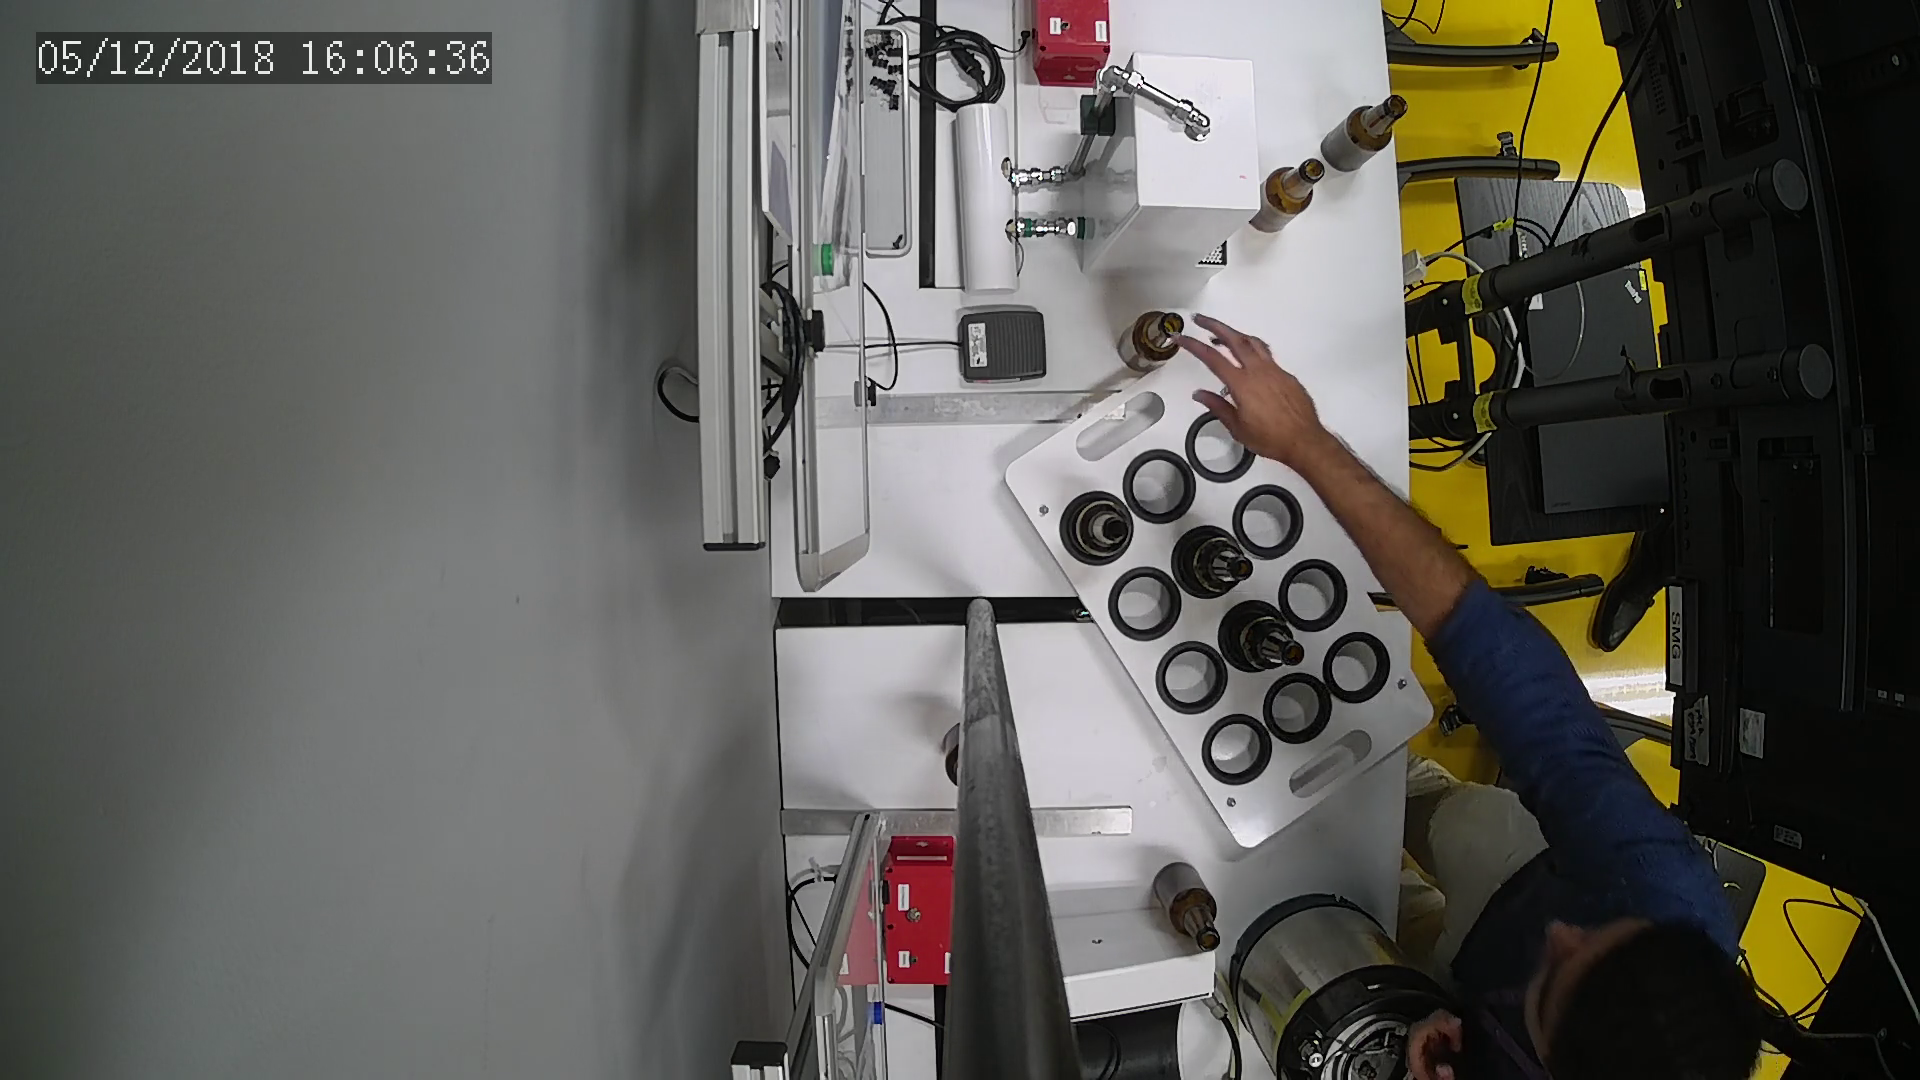filled_bottle: (1222, 601, 1308, 674), (1060, 493, 1139, 564), (1179, 531, 1261, 595)
trolley: (1004, 334, 1441, 855)
unfilled_bottle: (1320, 98, 1406, 171), (1156, 858, 1222, 951), (1251, 160, 1324, 233), (1114, 305, 1183, 378)
